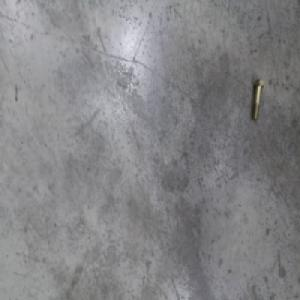Bolt: (251, 77, 264, 121)
